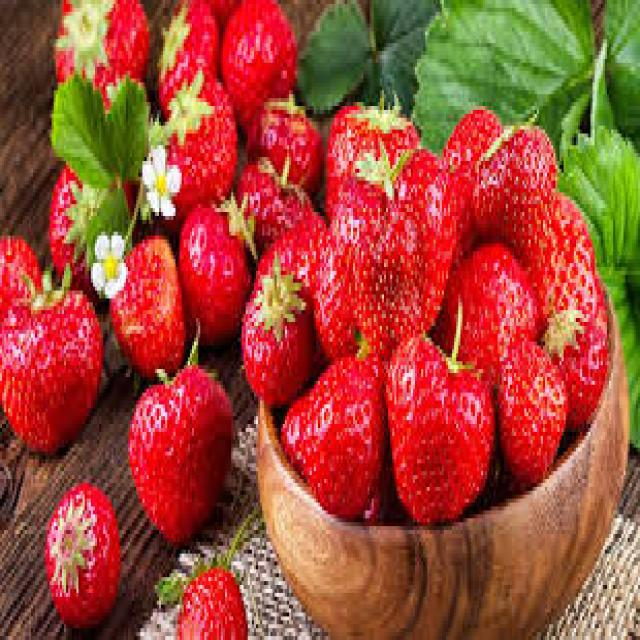strawberry: (392, 321, 498, 522), (123, 356, 234, 544), (341, 148, 426, 359), (0, 286, 104, 447), (283, 354, 385, 512), (50, 0, 151, 121), (41, 465, 120, 616), (470, 122, 552, 252), (238, 264, 314, 402), (107, 236, 186, 362), (180, 197, 253, 330), (218, 0, 300, 116), (161, 77, 235, 202)
